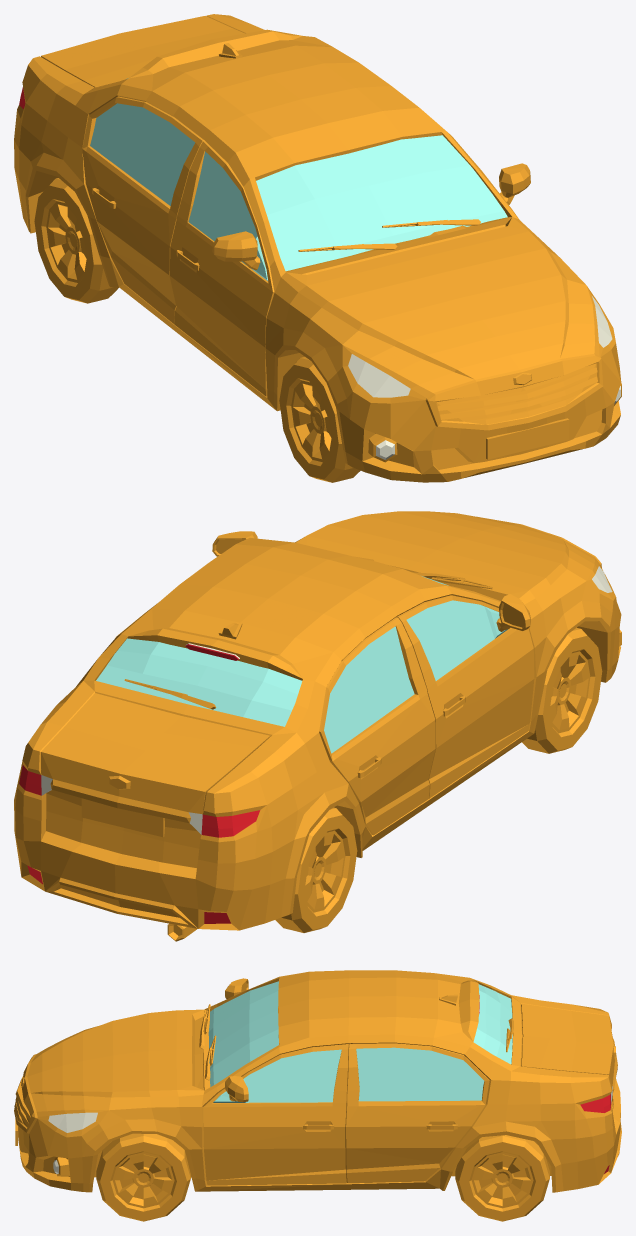
File: SM_Car_Modern.fbx
3 renders of one model, top to bottom at view 1: azimuth 30°, elevation 25°; view 2: azimuth 150°, elevation 25°; view 3: azimuth 270°, elevation 25°, orthographic. The views are drawn at different scales.
Visible parts, largest first — view 1: car-modern-base, car-modern-door-lfa, car-modern-door-rba, car-modern-wheel-rba, car-modern_trunk, car-modern-wheel-rfr, car-modern-door_lfr; view 2: car-modern-base, car-modern_trunk, car-modern-door-lfa, car-modern-door-rba, car-modern-wheel-rfr, car-modern-wheel-rba, car-modern-door_lfr; view 3: car-modern-base, car-modern-door_lfr, car-modern-door-lba, car-modern-wheel-lfr, car-modern-wheel-lba, car-modern_trunk.
Boxes of the visible parts, bbox=[...] form: car-modern-base: bbox=[14, 14, 621, 482]; car-modern-door-lfa: bbox=[170, 141, 274, 396]; car-modern-door-rba: bbox=[82, 96, 204, 323]; car-modern-wheel-rba: bbox=[34, 178, 118, 303]; car-modern_trunk: bbox=[41, 16, 244, 87]; car-modern-wheel-rfr: bbox=[279, 357, 360, 482]; car-modern-door_lfr: bbox=[499, 163, 530, 216]; car-modern-base: bbox=[14, 511, 621, 941]; car-modern_trunk: bbox=[41, 693, 270, 868]; car-modern-door-lfa: bbox=[396, 594, 534, 798]; car-modern-door-rba: bbox=[319, 617, 435, 835]; car-modern-wheel-rfr: bbox=[522, 627, 602, 753]; car-modern-wheel-rba: bbox=[275, 807, 357, 932]; car-modern-door_lfr: bbox=[212, 531, 257, 556]; car-modern-base: bbox=[14, 970, 621, 1192]; car-modern-door_lfr: bbox=[203, 1044, 348, 1185]; car-modern-door-lba: bbox=[345, 1043, 489, 1183]; car-modern-wheel-lfr: bbox=[96, 1133, 190, 1221]; car-modern-wheel-lba: bbox=[455, 1135, 549, 1221]; car-modern_trunk: bbox=[521, 1003, 617, 1103].
Bounding box in the file's own units: 2.2 × 1.65 × 5.
